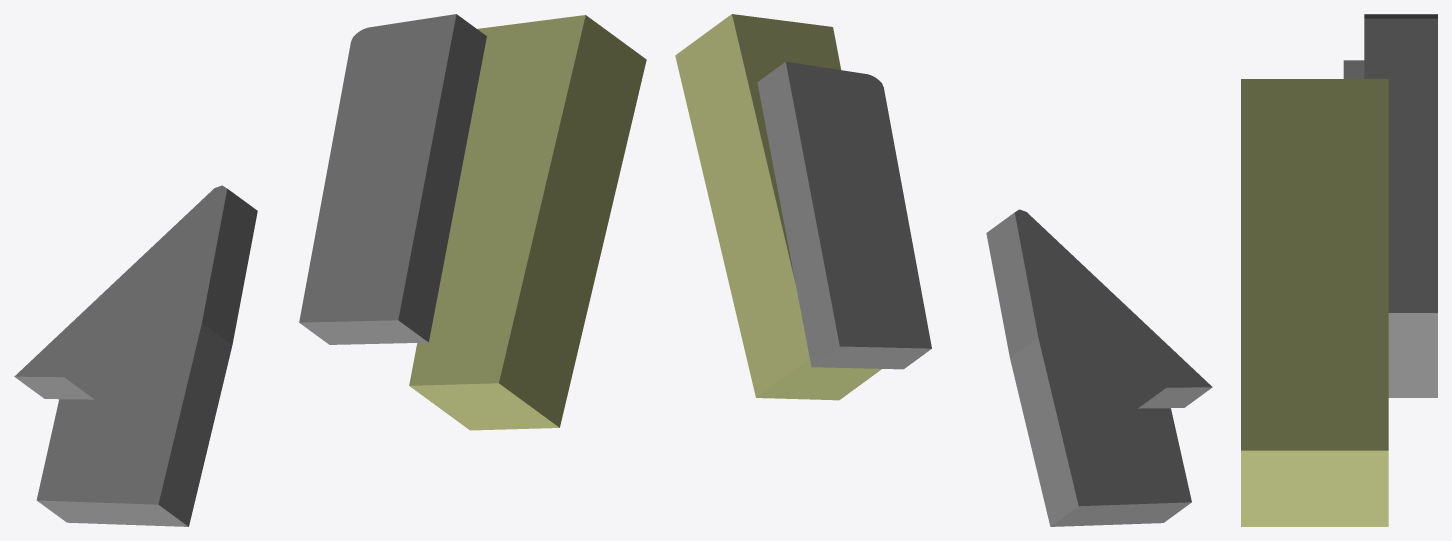
3 renders of one model, left to right at view 1: azimuth 30°, elevation 25°; view 2: azimuth 150°, elevation 25°; view 3: azimuth 270°, elevation 25°, orthographic. The views are drawn at different scales.
Visible parts, largest first — view 1: 0_2_1_3_0_0_1_2_2; view 2: 0_2_1_3_0_0_1_2_2; view 3: 0_2_1_3_0_0_1_2_2.
Boxes of the visible parts, x1,y1,x2,y2 form: 0_2_1_3_0_0_1_2_2: (14, 14, 646, 526); 0_2_1_3_0_0_1_2_2: (675, 14, 1212, 526); 0_2_1_3_0_0_1_2_2: (1241, 14, 1437, 526).
Size of the model in its own units: 31.79 by 22.66 by 8.01.
